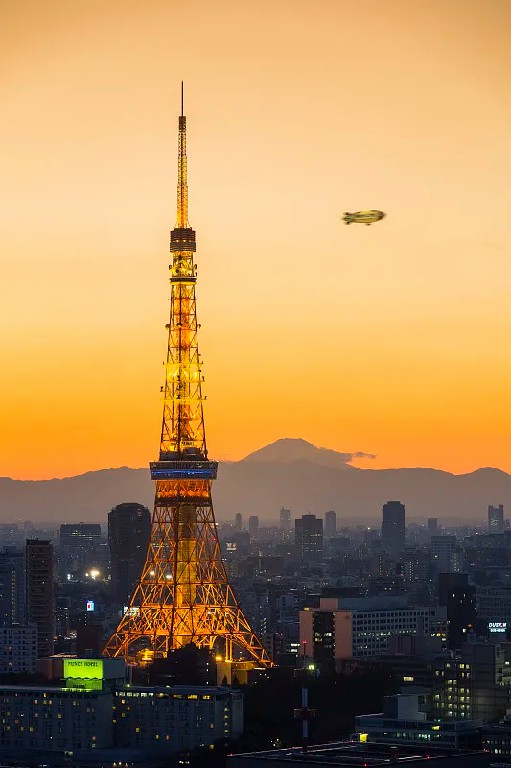Tokyo: (104, 74, 273, 674)
